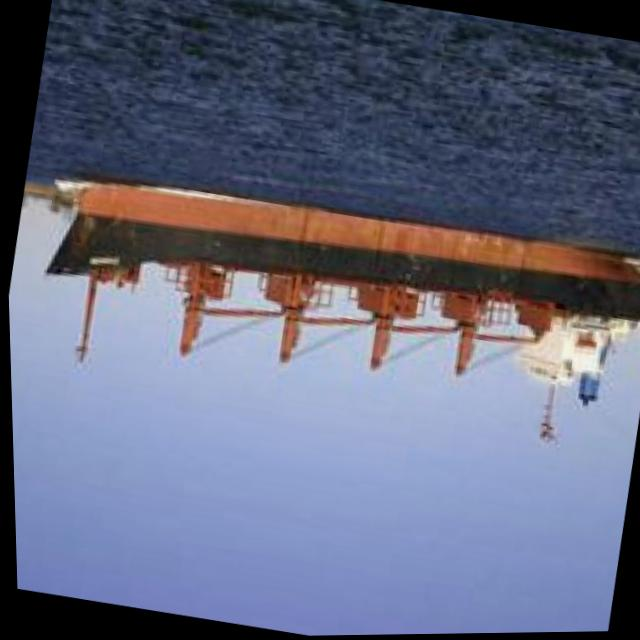ship2: (41, 175, 640, 451)
